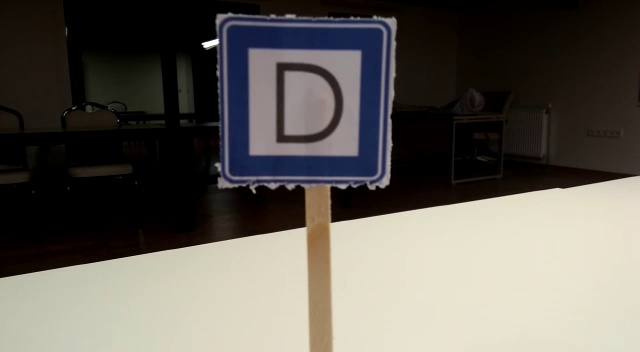durak: (221, 20, 391, 186)
